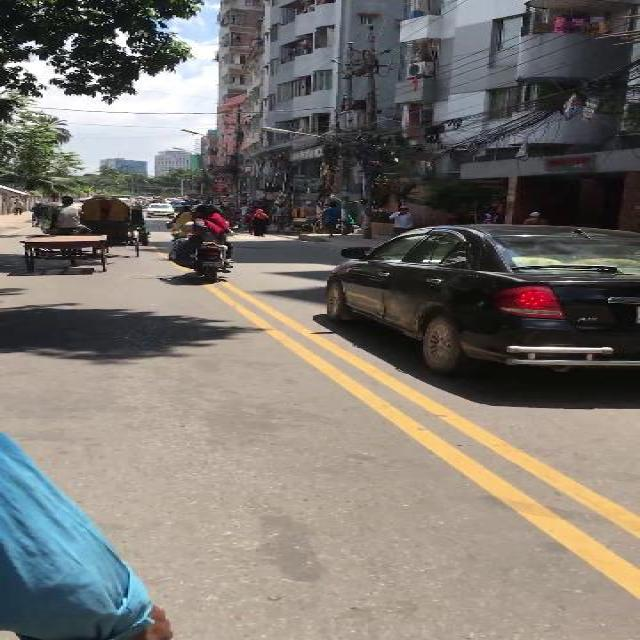car: (318, 220, 636, 386), (144, 202, 172, 218)
motorbike: (163, 202, 234, 282)
rickshaw: (18, 194, 106, 272), (76, 195, 140, 258)
